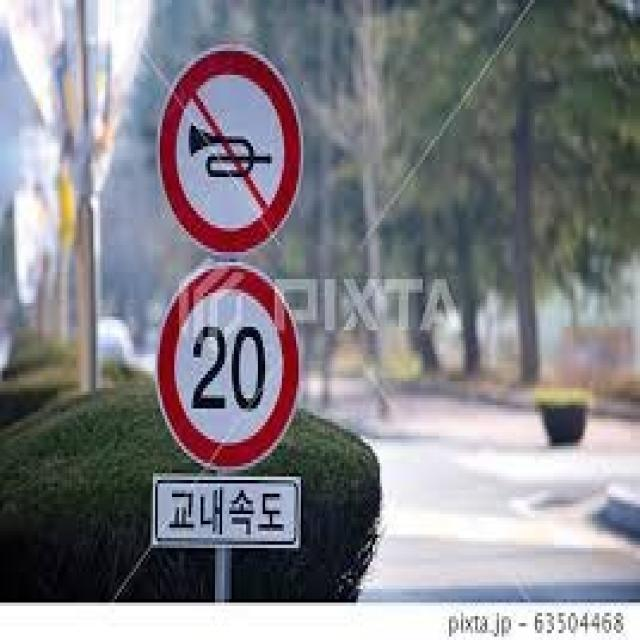speed_limit_20: (136, 254, 325, 477)
